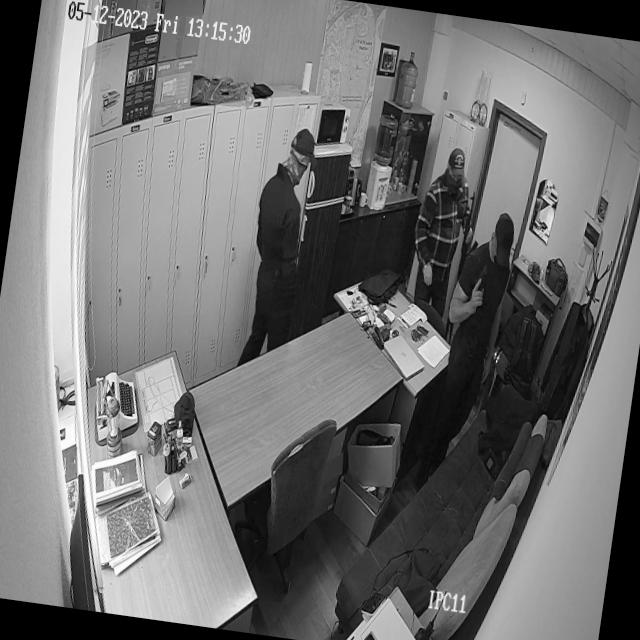gun: (452, 182, 486, 252), (469, 264, 493, 308)
person: (238, 119, 322, 335)
person with a gun: (440, 208, 520, 377), (412, 139, 492, 251)
